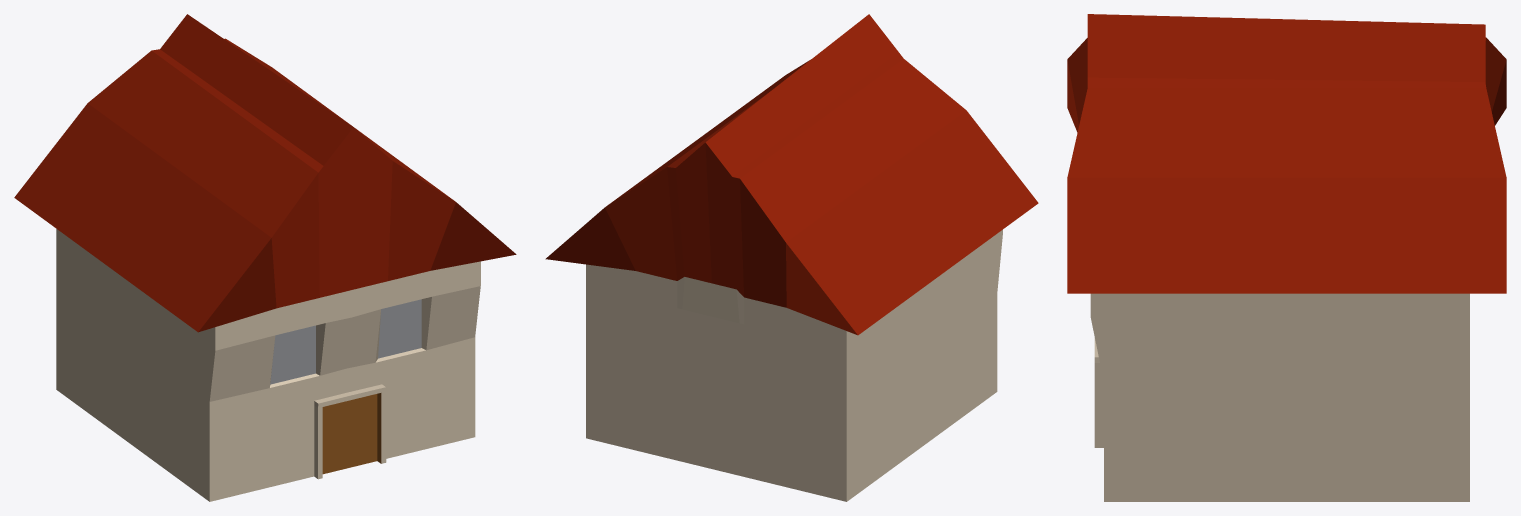
The model's file is House.glb.
3 renders of one model, left to right at view 1: azimuth 30°, elevation 25°; view 2: azimuth 150°, elevation 25°; view 3: azimuth 270°, elevation 25°, orthographic. The views are drawn at different scales.
Parts seen in each view (by area): view 1: Cube; view 2: Cube; view 3: Cube.
Part boxes in pixels (left/top/right/bottom): Cube: left=14, top=14, right=516, bottom=501; Cube: left=545, top=14, right=1038, bottom=501; Cube: left=1067, top=14, right=1506, bottom=501.
Size of the model in its own units: 2.4 by 2.49 by 2.4.
